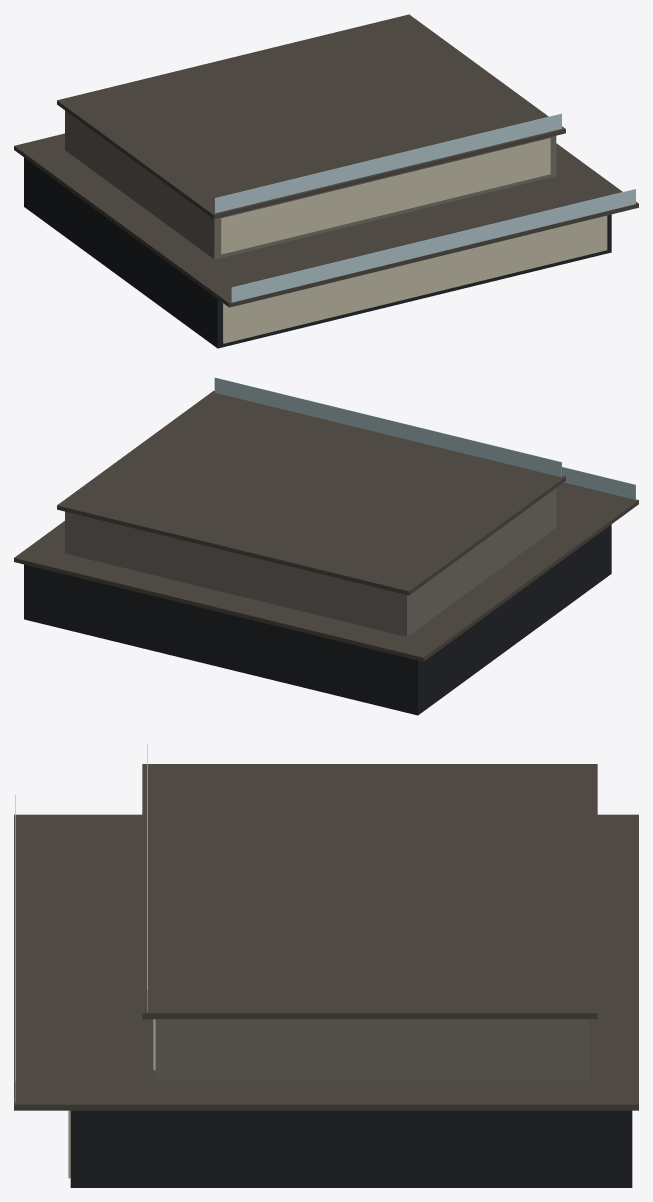
The model's file is sil_escapade_club.glb.
The picture shows the model from 3 angles, top to bottom: view 1: azimuth 30°, elevation 25°; view 2: azimuth 150°, elevation 25°; view 3: azimuth 270°, elevation 25°; orthographic projection. The views are drawn at different scales.
Visible parts, largest first — view 1: silverstone-escapade-clubhouse; view 2: silverstone-escapade-clubhouse; view 3: silverstone-escapade-clubhouse.
Part boxes in pixels (left/top/right/bottom): silverstone-escapade-clubhouse: left=14, top=14, right=638, bottom=348; silverstone-escapade-clubhouse: left=14, top=377, right=638, bottom=715; silverstone-escapade-clubhouse: left=14, top=744, right=638, bottom=1187.
Bounding box in the file's own units: 31.5 × 9.2 × 28.7.
